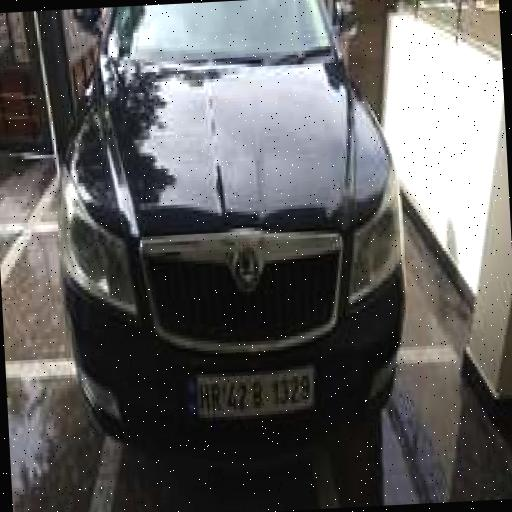license_plate`: (183, 358, 317, 412)
